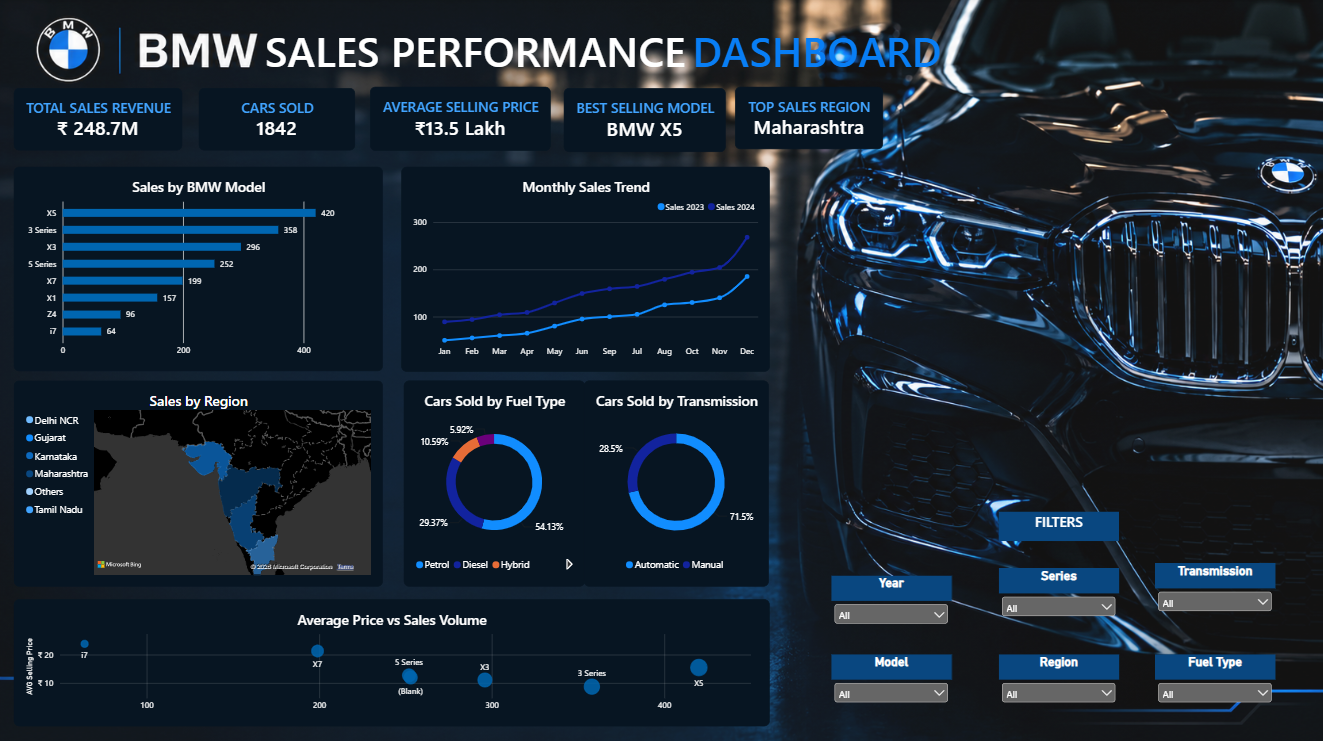

The page's visual inventory and layout, read from the dashboard file:
{"tool":"powerbi","page":{"name":"Page 1","canvas":[1920,1080],"ordinal":0},"visuals":[{"type":"card","title":"TOP SALES REGION","fields":{"Values":["calculations.Top Sales Region"]},"box":[1064,128,214.1,90.6],"z":0},{"type":"card","title":"TOTAL SALES REVENUE","fields":{"Values":["calculations.Total Sales Revenue"]},"box":[20,130,244,90],"z":1},{"type":"card","title":"BEST SELLING MODEL","fields":{"Values":["calculations.Best Selling Model"]},"box":[816,130,234.6,92.6],"z":2},{"type":"card","title":"CARS SOLD","fields":{"Values":["calculations.Cars Sold"]},"box":[288,130,226.4,90.6],"z":3},{"type":"card","title":"AVERAGE SELLING PRICE","fields":{"Values":["calculations.Average Selling Price Display"]},"box":[536,128,261.4,92.6],"z":4},{"type":"barChart","title":"Sales by BMW Model","fields":{"Category":["Model_Sales.Model"],"Y":["calculations.Cars Sold"]},"box":[20,244,534,296],"z":5},{"type":"lineChart","title":"Monthly Sales Trend","fields":{"Category":["Monthly_Sales.Month"],"Y":["calculations.Sales 2023","calculations.Sales 2024"]},"box":[580,244,533.8,296.8],"z":6},{"type":"filledMap","title":"Sales by Region","fields":{"Category":["Region_Sales.Region"],"Series":["Region_Sales.Region"]},"box":[20,554,534,298],"z":7},{"type":"donutChart","title":"Cars Sold by Fuel Type","fields":{"Category":["Fuel_Type.Fuel_Type"],"Y":["calculations.Cars Sold"]},"box":[584,554,262,298],"z":8},{"type":"donutChart","fields":{"Category":["Sales_Data.Transmission"],"Y":["calculations.Cars Sold"]},"box":[846,554,268,298],"z":9},{"type":"scatterChart","title":"Average Price vs Sales Volume","fields":{"Category":["Price_vs_Volume.Model"],"Size":["calculations.Cars Sold"],"X":["calculations.Cars Sold"],"Y":["calculations.Average Selling Price"]},"box":[20,870,1094,184],"z":10},{"type":"textbox","title":"SALES PERFORMANCE","box":[384,34,1150,94],"z":11},{"type":"textbox","title":"DASHBOARD","box":[1002,34,404,116],"z":12},{"type":"slicer","title":"Year","fields":{"Values":["Sales_Data.Year"]},"box":[1204,836,174,114],"z":13},{"type":"slicer","title":"Model","fields":{"Values":["Sales_Data.Model"]},"box":[1204,950,174,100],"z":14},{"type":"slicer","title":"Series","fields":{"Values":["Sales_Data.Model_Series"]},"box":[1446,826,174,100],"z":15},{"type":"slicer","title":"Region","fields":{"Values":["Sales_Data.Region"]},"box":[1446,950,174,100],"z":16},{"type":"slicer","title":"Fuel Type","fields":{"Values":["Sales_Data.Fuel_Type"]},"box":[1672,950,174,100],"z":17},{"type":"slicer","title":"Transmission","fields":{"Values":["Transmission.Transmission"]},"box":[1672,818,174,110],"z":18},{"type":"textbox","title":"FILTERS","box":[1446,744,174,150],"z":19}]}

Visuals, with their boxes in screenshot pixels (x1, y1, x2, y2), scaled from the page's 1920x1080 canvas onto the 1323x741 screenshot:
"TOP SALES REGION" card: (x1=733, y1=88, x2=881, y2=150)
"TOTAL SALES REVENUE" card: (x1=14, y1=89, x2=182, y2=151)
"BEST SELLING MODEL" card: (x1=562, y1=89, x2=724, y2=153)
"CARS SOLD" card: (x1=198, y1=89, x2=354, y2=151)
"AVERAGE SELLING PRICE" card: (x1=369, y1=88, x2=549, y2=151)
"Sales by BMW Model" barChart: (x1=14, y1=167, x2=382, y2=370)
"Monthly Sales Trend" lineChart: (x1=400, y1=167, x2=767, y2=371)
"Sales by Region" filledMap: (x1=14, y1=380, x2=382, y2=585)
"Cars Sold by Fuel Type" donutChart: (x1=402, y1=380, x2=583, y2=585)
donutChart - Sales_Data.Transmission x calculations.Cars Sold: (x1=583, y1=380, x2=768, y2=585)
"Average Price vs Sales Volume" scatterChart: (x1=14, y1=597, x2=768, y2=723)
"SALES PERFORMANCE" textbox: (x1=265, y1=23, x2=1057, y2=88)
"DASHBOARD" textbox: (x1=690, y1=23, x2=969, y2=103)
"Year" slicer: (x1=830, y1=574, x2=950, y2=652)
"Model" slicer: (x1=830, y1=652, x2=950, y2=720)
"Series" slicer: (x1=996, y1=567, x2=1116, y2=635)
"Region" slicer: (x1=996, y1=652, x2=1116, y2=720)
"Fuel Type" slicer: (x1=1152, y1=652, x2=1272, y2=720)
"Transmission" slicer: (x1=1152, y1=561, x2=1272, y2=637)
"FILTERS" textbox: (x1=996, y1=510, x2=1116, y2=613)
